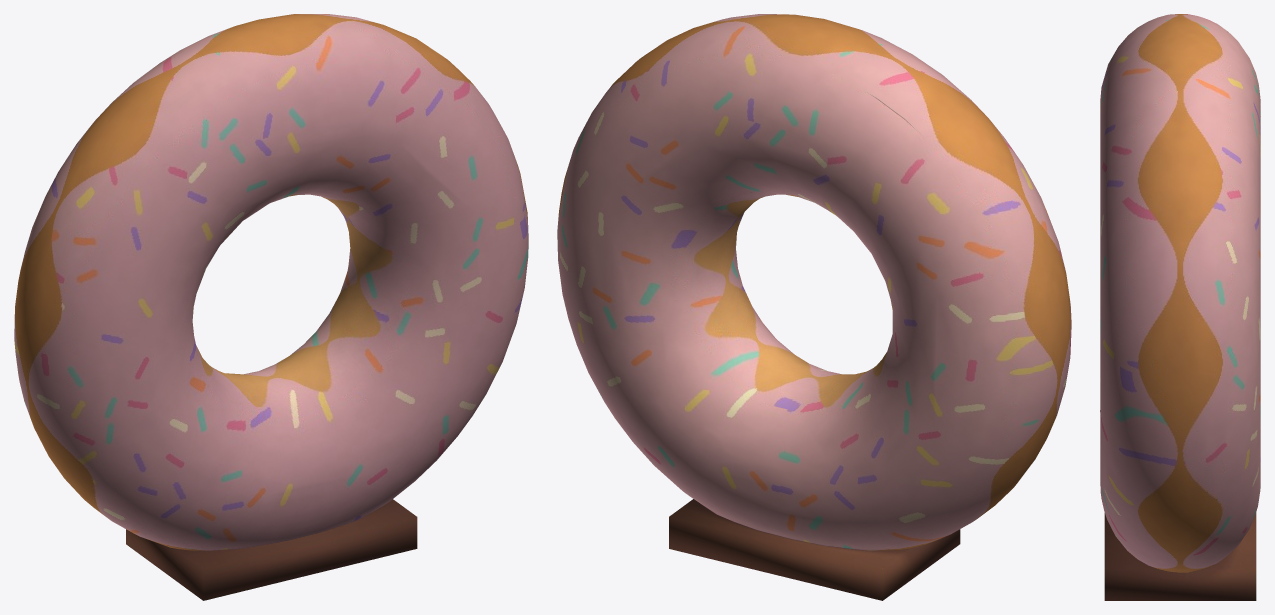
File: decor_donut.glb
3 renders of one model, left to right at view 1: azimuth 30°, elevation 25°; view 2: azimuth 150°, elevation 25°; view 3: azimuth 270°, elevation 25°, orthographic. The views are drawn at different scales.
Visible parts, largest first — view 1: Donut, Stand; view 2: Donut, Stand; view 3: Donut, Stand.
Part boxes in pixels (x1,y1,x2,y2): Donut: [14, 14, 528, 550]; Stand: [126, 499, 417, 600]; Donut: [557, 14, 1071, 550]; Stand: [669, 499, 960, 600]; Donut: [1100, 14, 1260, 572]; Stand: [1104, 512, 1256, 600].
Size of what is drawn, in the model's own units: 1.62 by 1.63 by 0.4654.
Materials: 1 (1 with a texture image).
